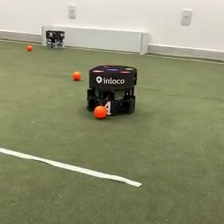ball: (92, 103, 109, 120), (71, 69, 82, 81), (26, 43, 33, 51)
goal: (40, 23, 150, 56)
robot: (85, 62, 139, 116), (44, 29, 66, 49)
